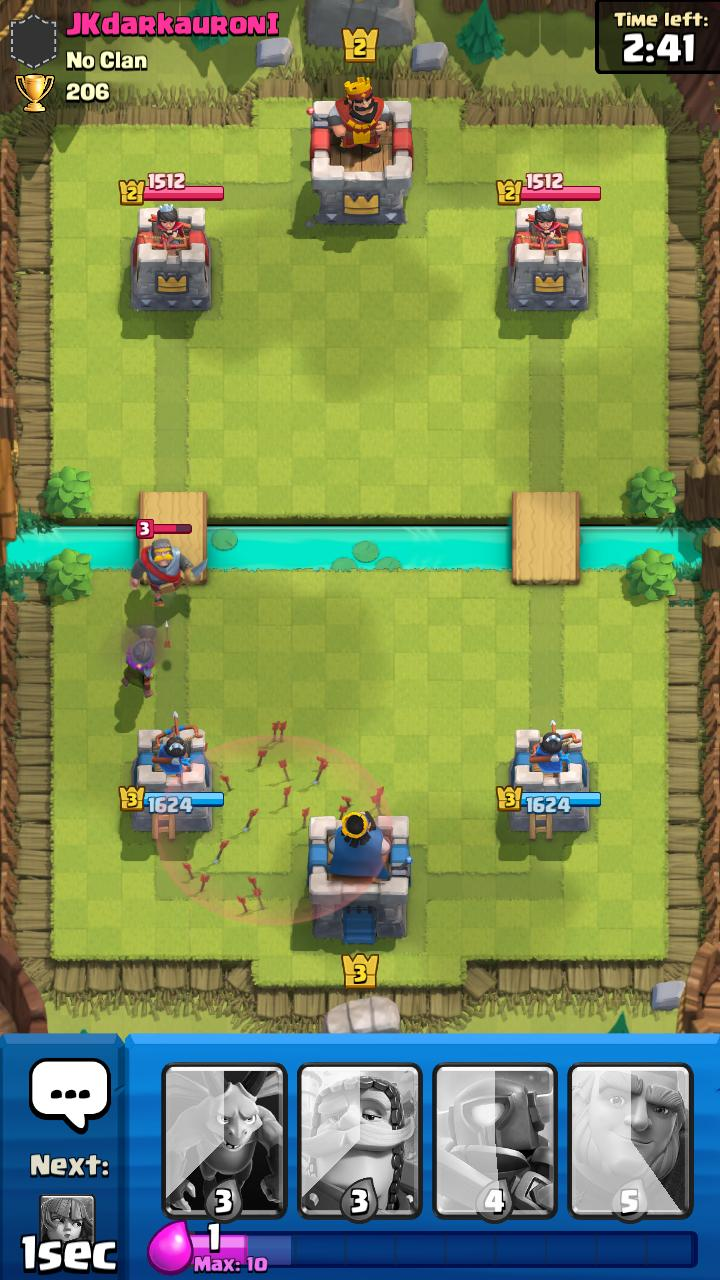ally: (121, 625, 158, 698)
enemy: (129, 519, 207, 607)
